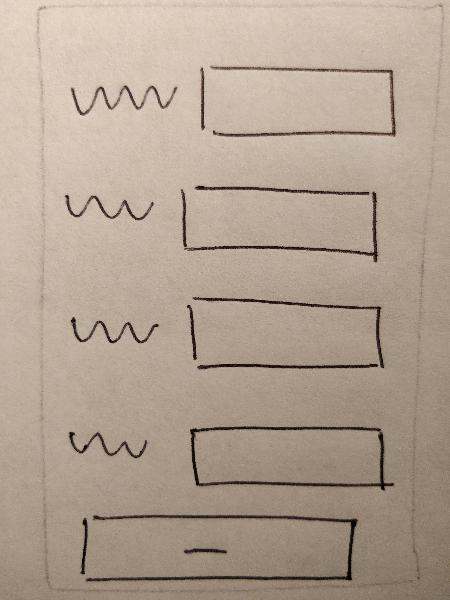button: (72, 506, 363, 590)
text: (58, 72, 184, 120), (57, 303, 165, 356), (60, 181, 160, 238), (59, 419, 153, 471)
text_input: (192, 52, 407, 152), (173, 173, 388, 268), (180, 288, 395, 380), (185, 417, 403, 499)
